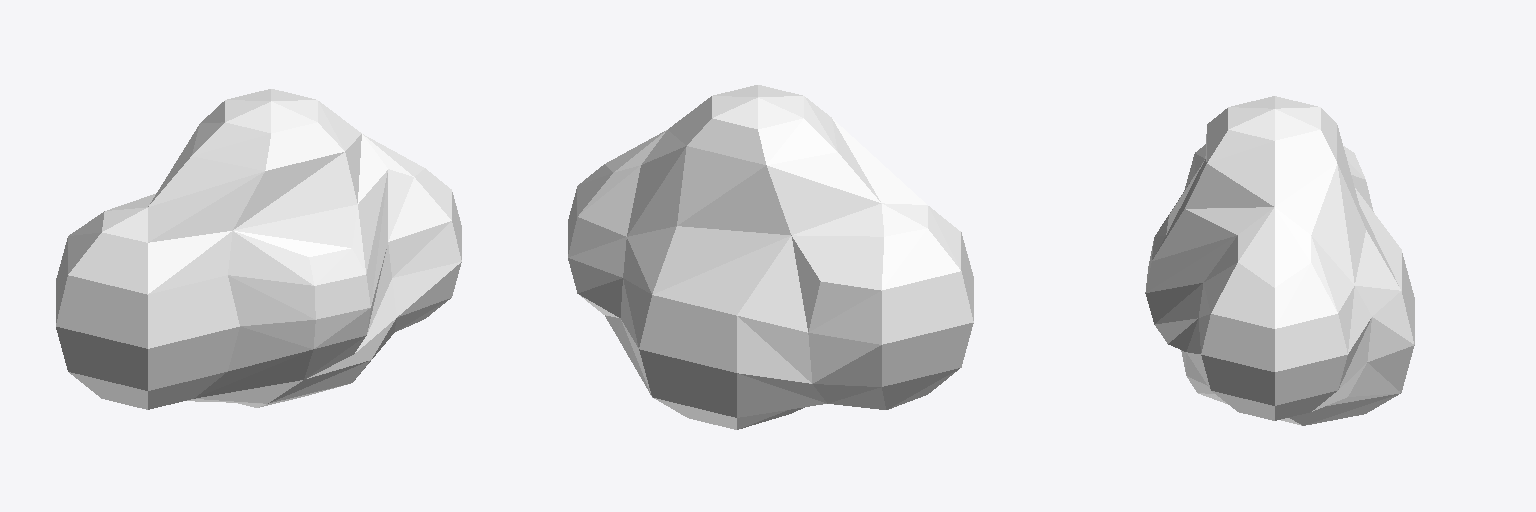
File: CloudOne.obj
3 renders of one model, left to right at view 1: azimuth 30°, elevation 25°; view 2: azimuth 150°, elevation 25°; view 3: azimuth 270°, elevation 25°, orthographic.
Parts seen in each view (by area): view 1: polySurface1; view 2: polySurface1; view 3: polySurface1.
Part boxes in pixels (x1,y1,x2,y2): polySurface1: (56,89,461,409); polySurface1: (568,85,973,429); polySurface1: (1145,96,1414,425).
Bounding box in the file's own units: 4.4 × 3.18 × 2.53.